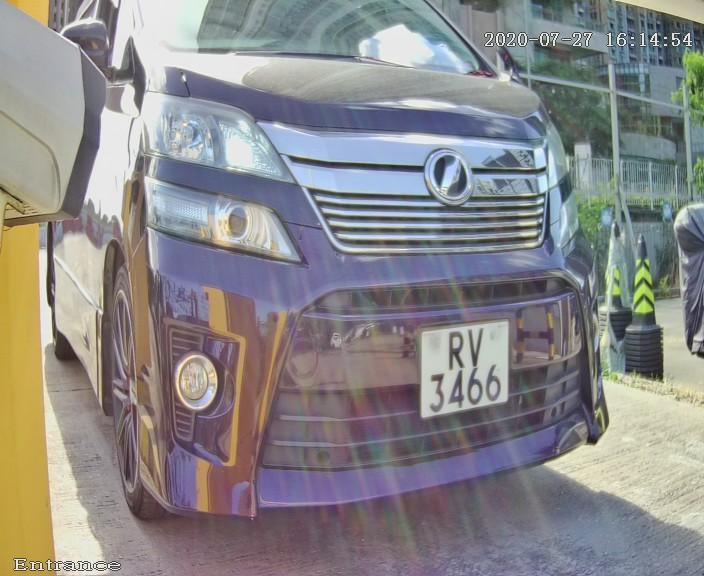privatecar: (70, 47, 620, 507)
